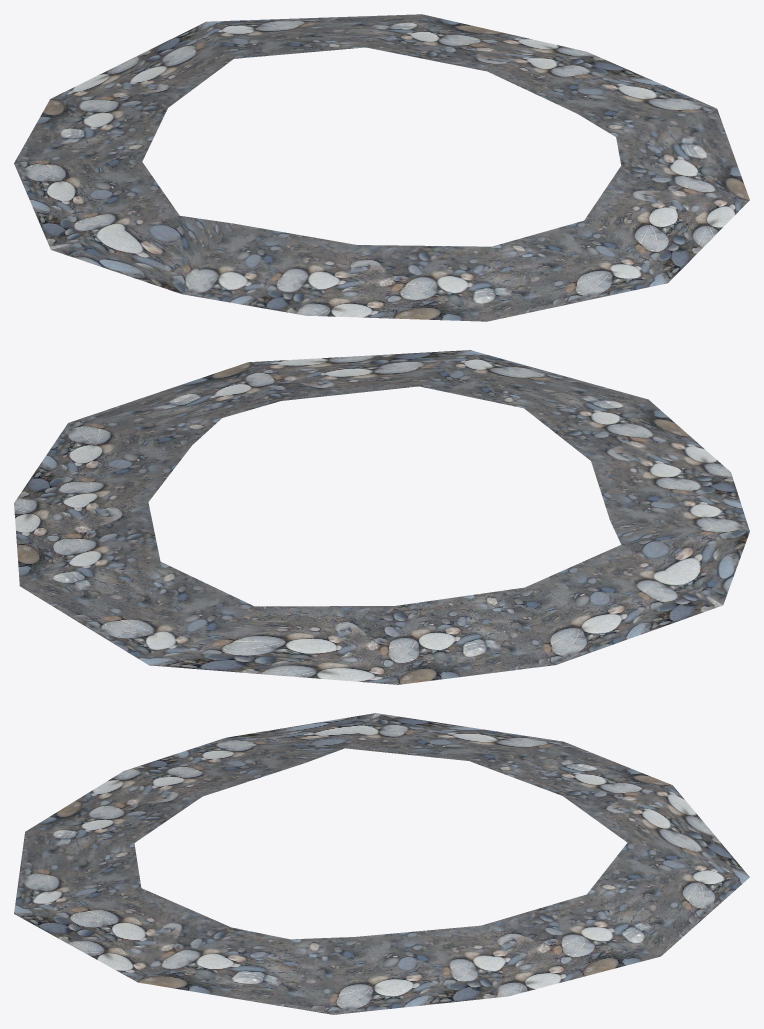
The model's file is UnderRockMesh2.fbx.
3 views of the same model, one above another, from view 1: azimuth 30°, elevation 25°; view 2: azimuth 150°, elevation 25°; view 3: azimuth 270°, elevation 25° (orthographic). The views are drawn at different scales.
Parts seen in each view (by area): view 1: Plane; view 2: Plane; view 3: Plane.
Boxes of the visible parts, x1=… form: Plane: x1=14, y1=14, x2=749, y2=321; Plane: x1=14, y1=350, x2=749, y2=684; Plane: x1=14, y1=713, x2=749, y2=1014.
Bounding box in the file's own units: 0.9308 × 0.0253 × 0.9591.
